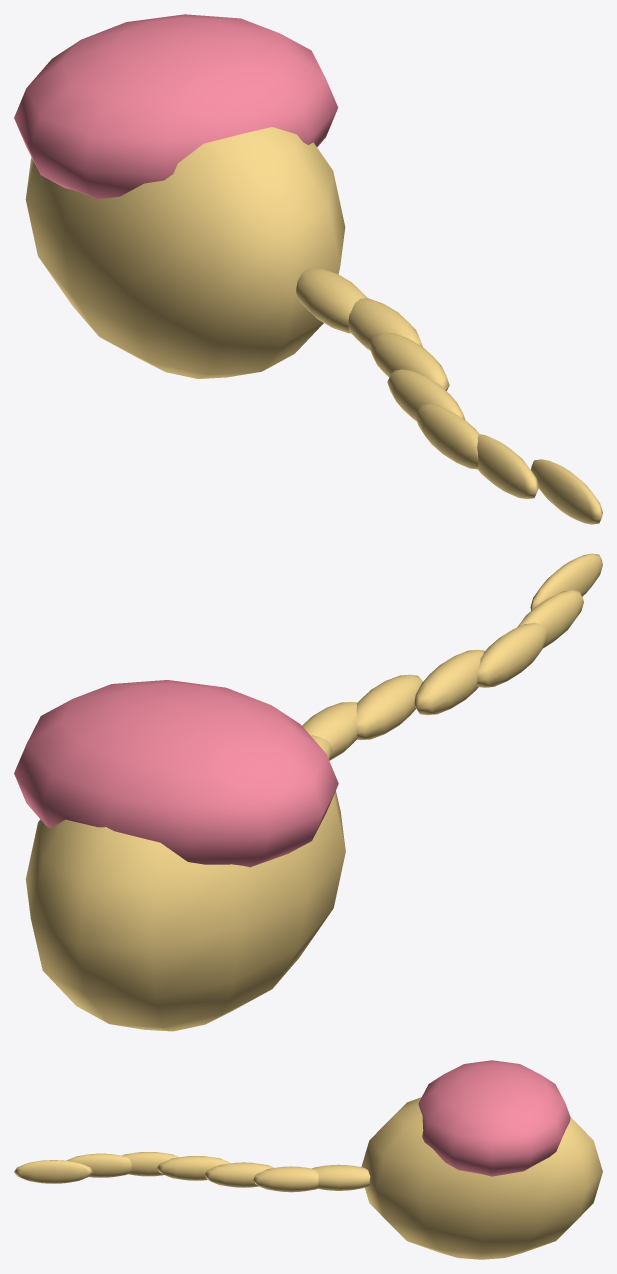
The model's file is player-spartan.glb.
3 views of the same model, one above another, from view 1: azimuth 30°, elevation 25°; view 2: azimuth 150°, elevation 25°; view 3: azimuth 270°, elevation 25° (orthographic). The views are drawn at different scales.
Parts seen in each view (by area): view 1: head, armor, tail-1, tail-7, tail-5, tail-6, tail-3, tail-2, tail-4; view 2: head, armor, tail-3, tail-4, tail-5, tail-2, tail-7, tail-6; view 3: head, armor, tail-7, tail-2, tail-1, tail-4, tail-3, tail-6, tail-5.
Boxes of the visible parts, bbox=[...] form: head: bbox=[25, 127, 345, 378]; armor: bbox=[14, 14, 338, 199]; tail-1: bbox=[296, 268, 367, 333]; tail-7: bbox=[530, 459, 602, 524]; tail-5: bbox=[415, 404, 478, 469]; tail-6: bbox=[477, 434, 538, 498]; tail-3: bbox=[369, 332, 449, 390]; tail-2: bbox=[348, 298, 422, 350]; tail-4: bbox=[387, 369, 465, 421]; head: bbox=[25, 791, 345, 1031]; armor: bbox=[14, 680, 338, 867]; tail-3: bbox=[356, 674, 422, 740]; tail-4: bbox=[414, 649, 485, 715]; tail-5: bbox=[477, 622, 548, 687]; tail-2: bbox=[302, 702, 357, 760]; tail-7: bbox=[530, 553, 602, 610]; tail-6: bbox=[517, 590, 583, 648]; head: bbox=[361, 1097, 602, 1259]; armor: bbox=[418, 1060, 570, 1176]; tail-7: bbox=[14, 1160, 92, 1183]; tail-2: bbox=[253, 1166, 318, 1192]; tail-1: bbox=[312, 1164, 370, 1190]; tail-4: bbox=[156, 1156, 230, 1180]; tail-3: bbox=[204, 1162, 274, 1187]; tail-6: bbox=[66, 1153, 131, 1177]; tail-5: bbox=[122, 1152, 178, 1176].
Bounding box in the file's own units: 0.36 × 0.37 × 1.11.
